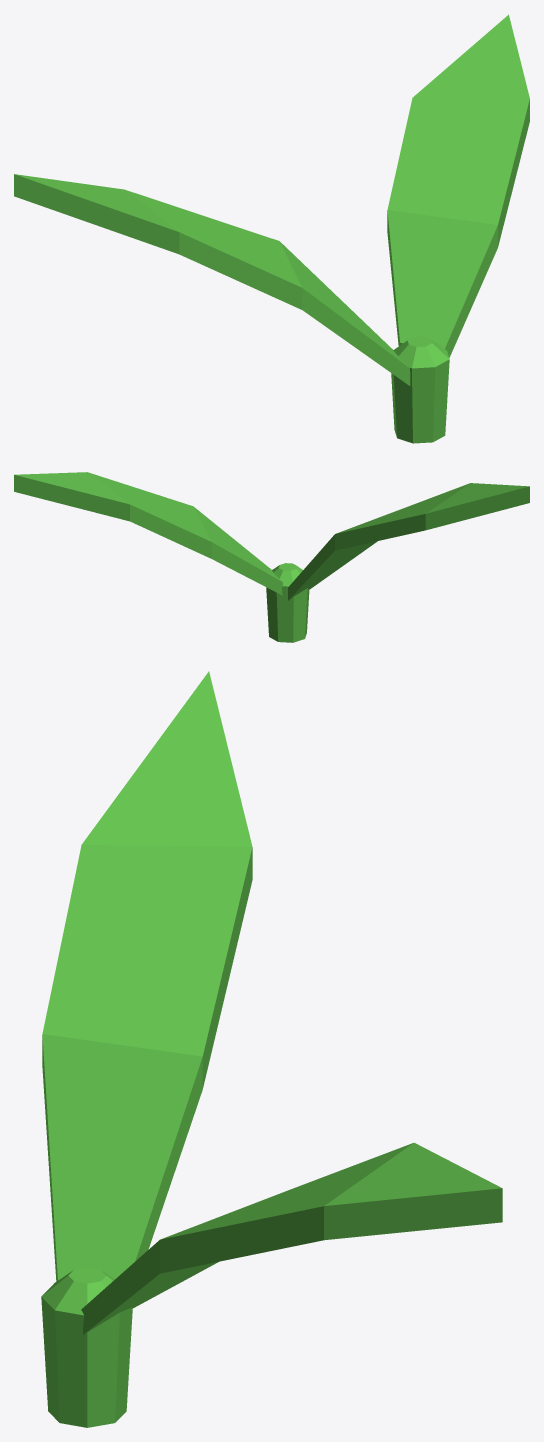
File: carrot_seedling.fbx
3 renders of one model, top to bottom at view 1: azimuth 30°, elevation 25°; view 2: azimuth 150°, elevation 25°; view 3: azimuth 270°, elevation 25°, orthographic. The views are drawn at different scales.
Parts seen in each view (by area): view 1: carrot_seedling; view 2: carrot_seedling; view 3: carrot_seedling.
Part boxes in pixels (box(x1,y1,x2,y2)): carrot_seedling: box(14, 14, 529, 443); carrot_seedling: box(14, 472, 529, 642); carrot_seedling: box(41, 671, 502, 1427).
Bounding box in the file's own units: 31.61 × 16.19 × 14.27.
